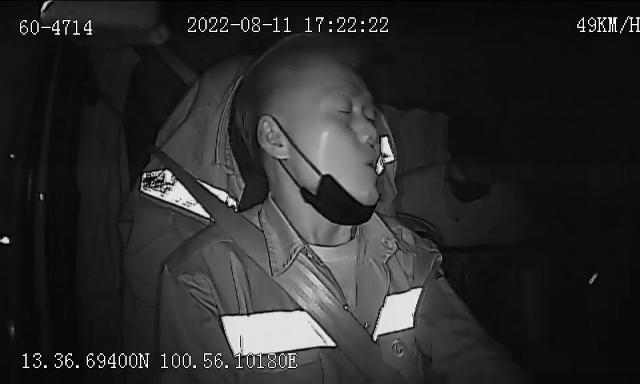Seatbelt: (152, 134, 428, 384)
